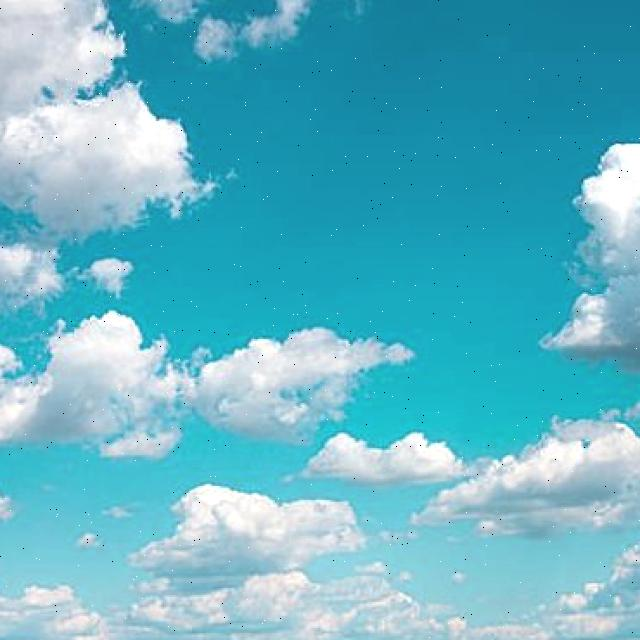Cu: (11, 34, 640, 640)
